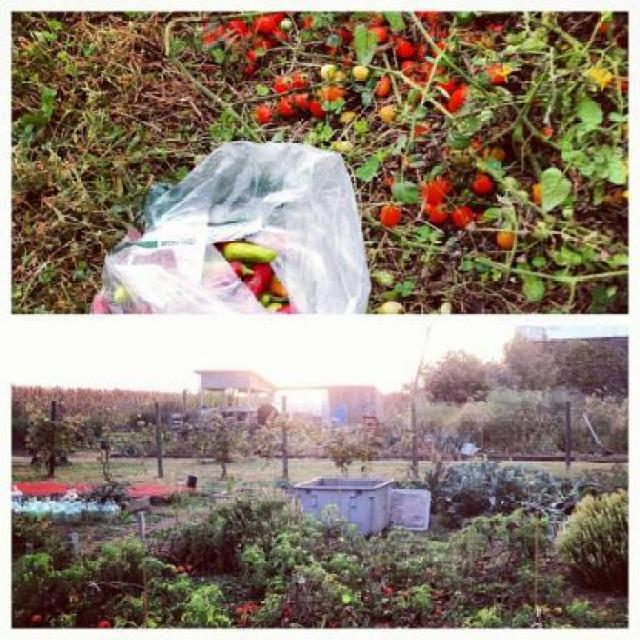plastic bag: (86, 137, 371, 314), (91, 138, 371, 314)
